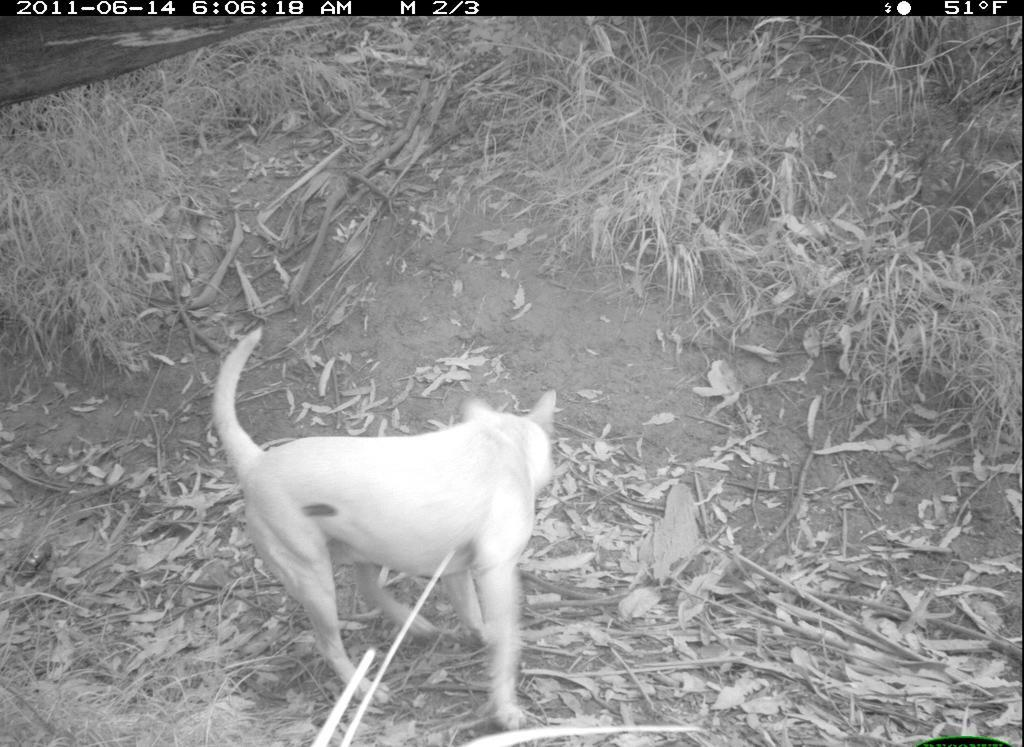dog: (209, 324, 565, 738)
